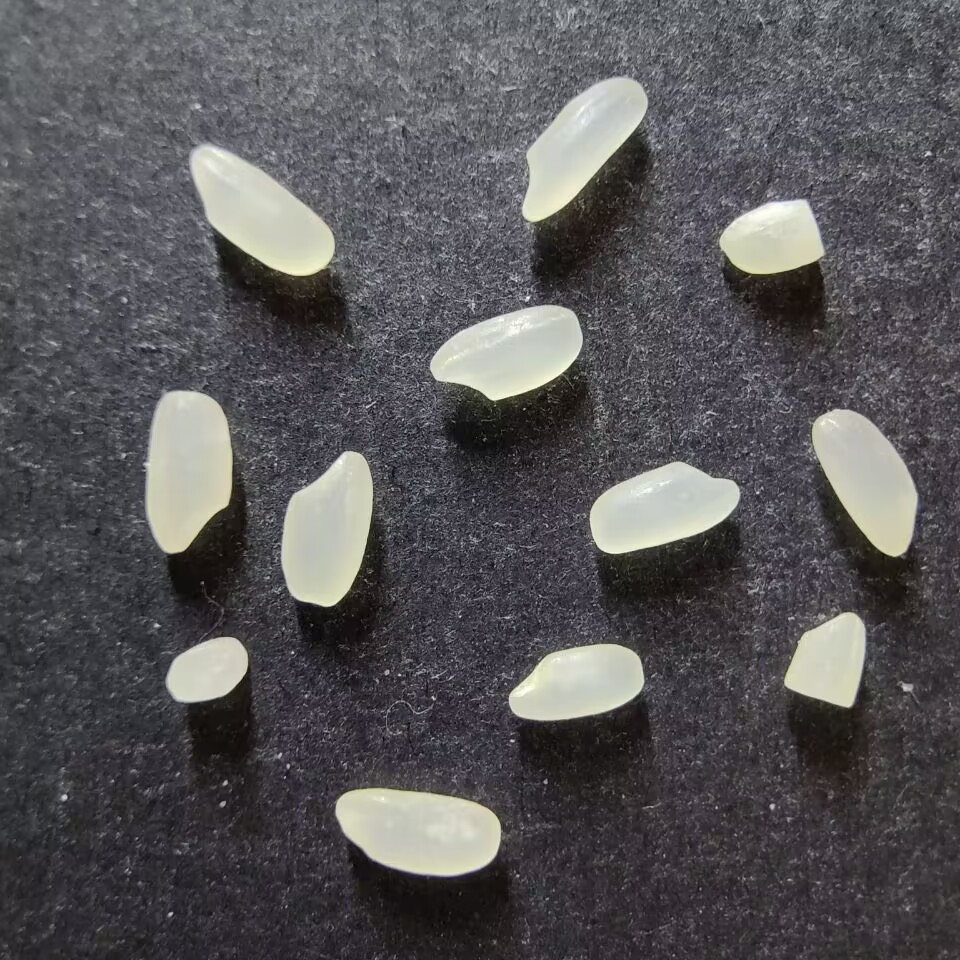broken: (718, 198, 826, 274), (782, 611, 866, 708), (164, 636, 248, 703)
rice: (189, 143, 335, 276), (520, 76, 648, 223), (811, 408, 917, 557), (428, 304, 582, 402), (334, 787, 501, 876), (279, 450, 373, 607), (588, 461, 740, 554), (145, 390, 231, 553), (508, 644, 645, 721)
